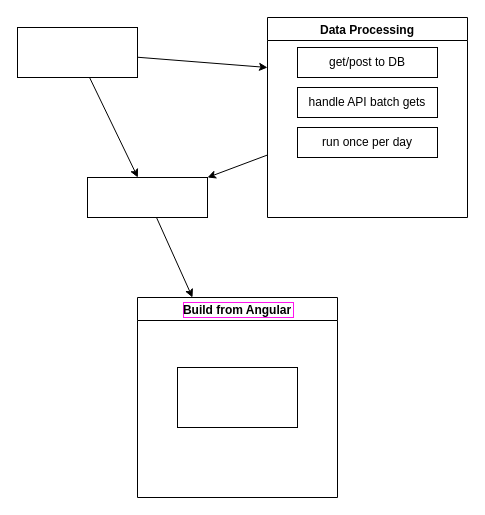
Image size: 485x515. Some labels were removed from this diagram. Each missing label, with the centre of its shape:
app.js: the point at 147,197
charts etc: the point at 237,397
Index.js: the point at 77,52
